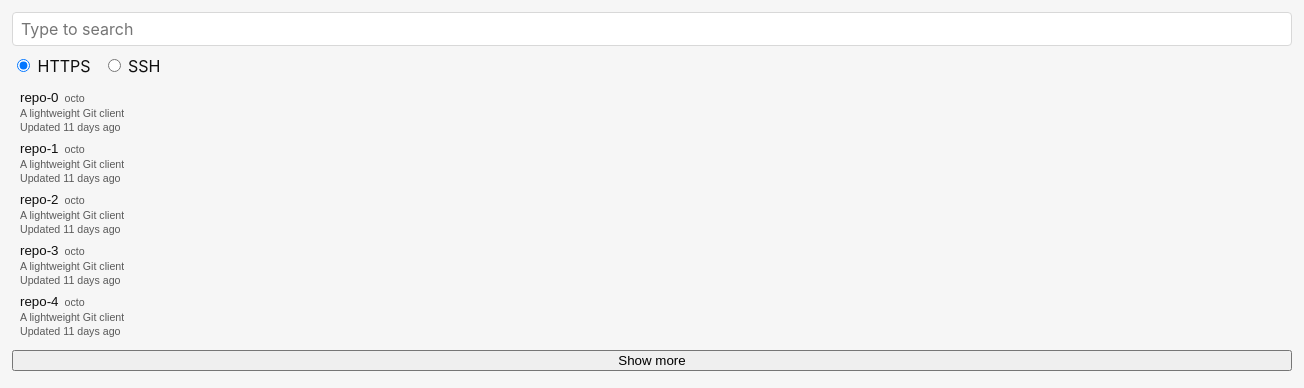
Test: RepoBrowser paging › loads page 2 on Show more and shows Loading… meanwhile
Click the button "Show more": (652, 360) [12,350,1292,371]
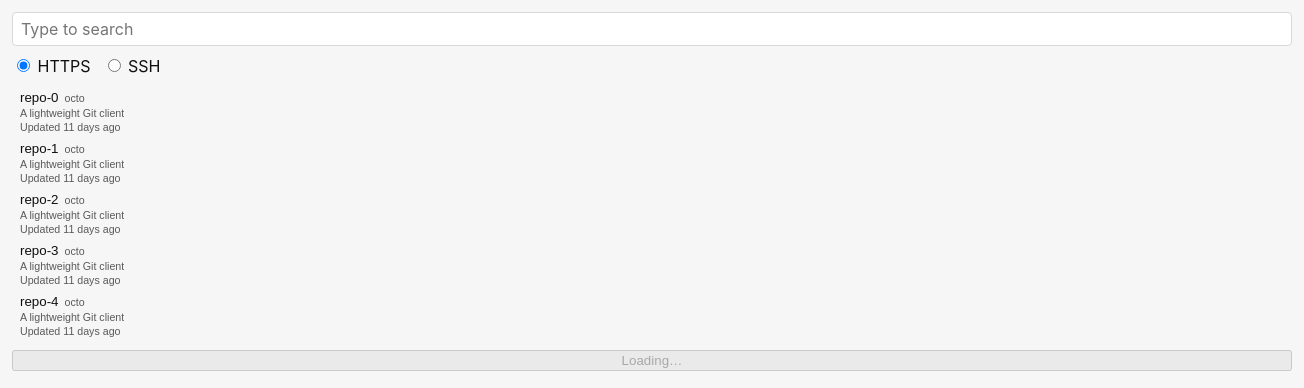
Check: the button "Loading…" is shown, box [12,350,1292,371]
